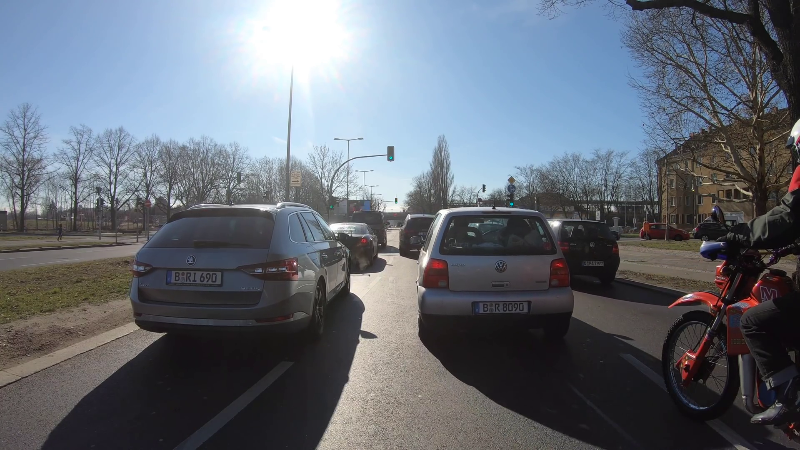Plate: (162, 267, 222, 288), (473, 299, 532, 315), (579, 258, 607, 268)
